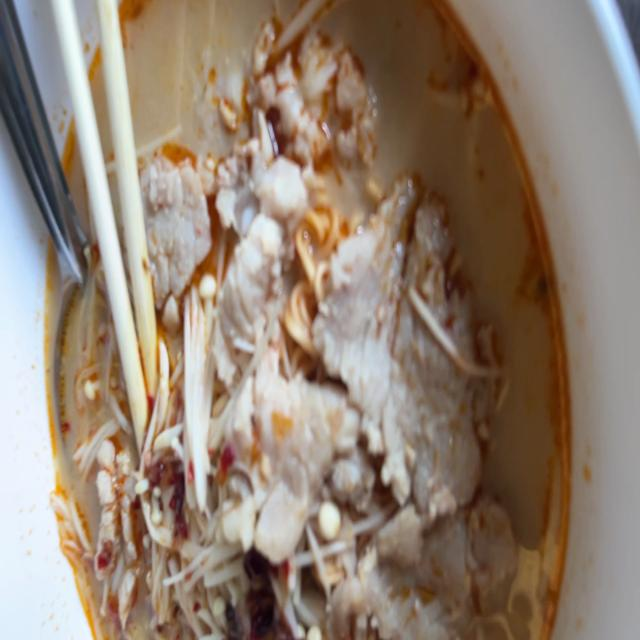noodle: (44, 0, 579, 640)
